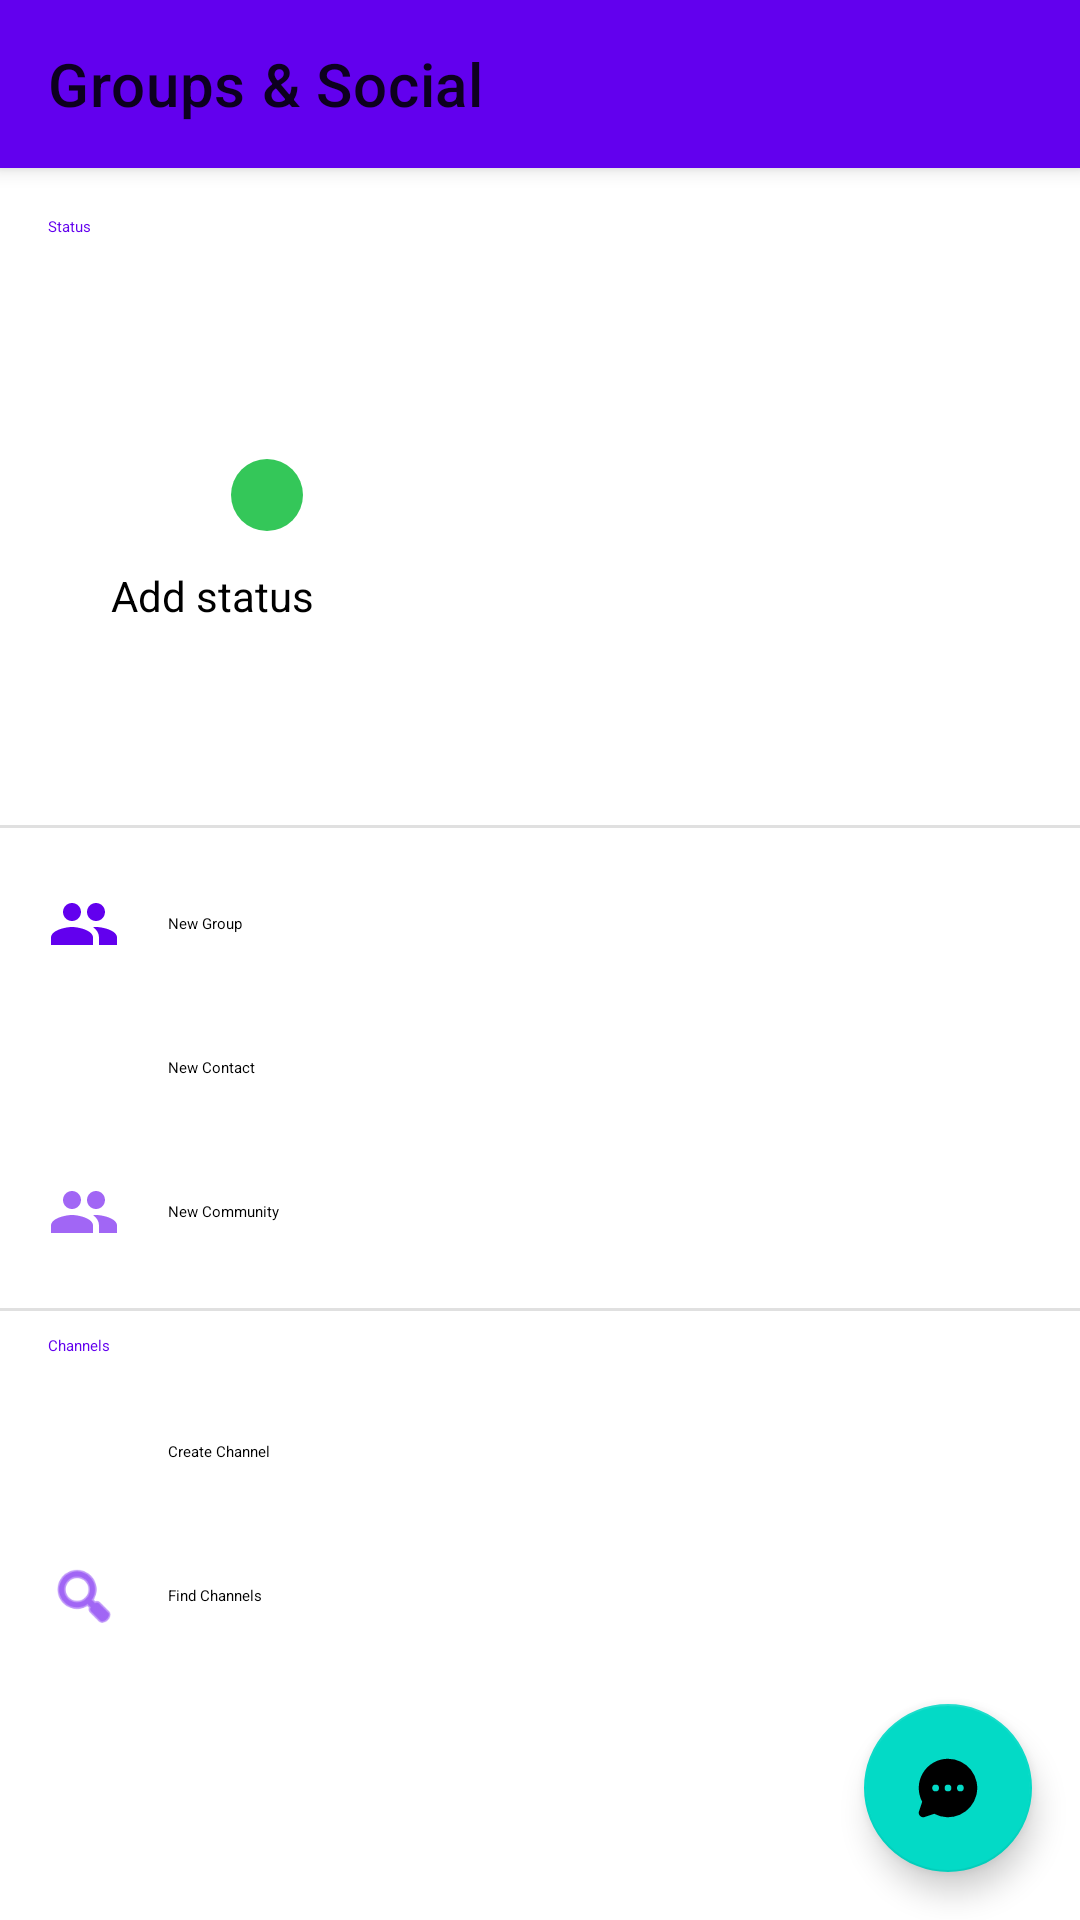

Named icons in this screenshot (1080 × 1920) and their centers, [x,y]:
New Message: [948,1788]
search: [84,1596]
